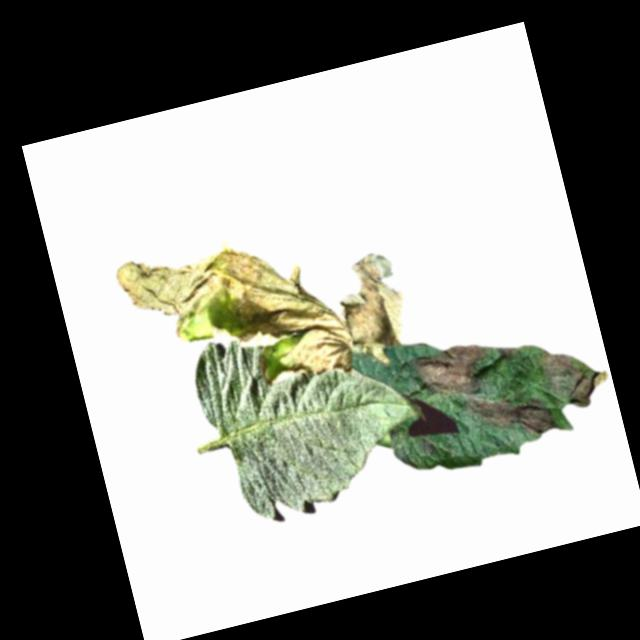Late_blight: (111, 211, 355, 419), (327, 247, 420, 371), (461, 376, 559, 454), (532, 336, 614, 417), (408, 338, 495, 407), (494, 343, 518, 363)
healthy: (185, 297, 433, 532)
